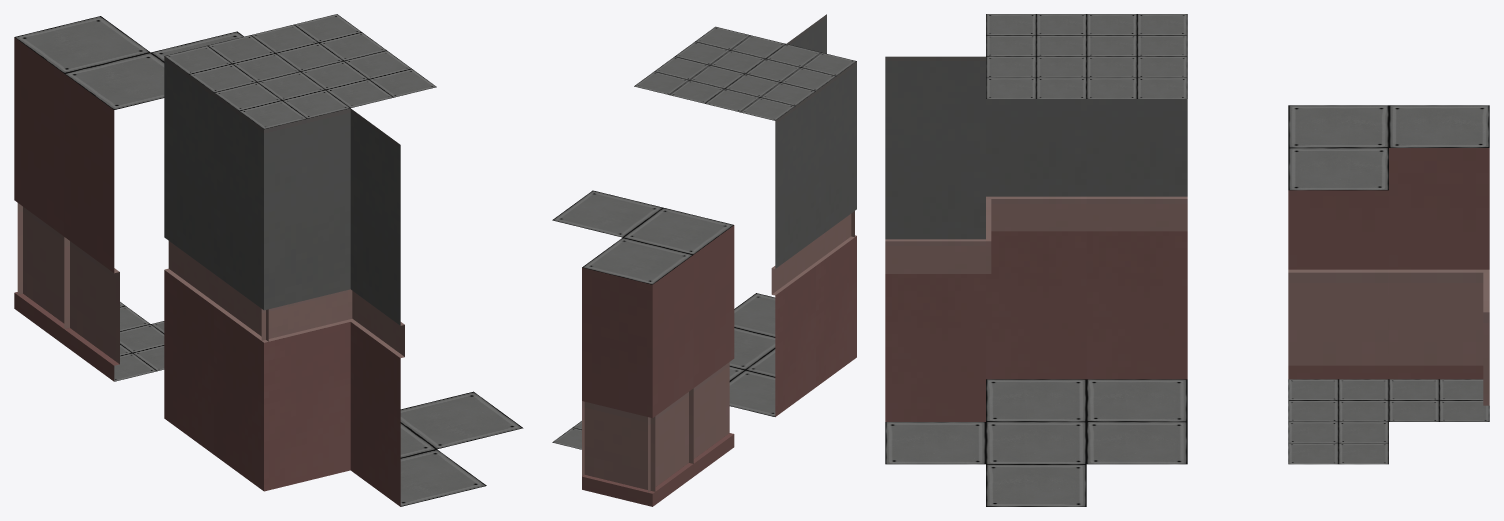
The model's file is cryolab.glb.
The picture shows the model from 3 angles, left to right: view 1: azimuth 30°, elevation 25°; view 2: azimuth 150°, elevation 25°; view 3: azimuth 270°, elevation 25°; orthographic projection. The views are drawn at different scales.
Parts seen in each view (by area): view 1: scale2.001-col, scale2-col-col, scale2.004-col, scale23-col, scale23.001-col, scale2.005-col, scale2.002-col, scale2.003-col, scale23.002-col; view 2: scale23.001-col, scale2-col-col, scale2.001-col, scale23-col, scale2.005-col, scale23.002-col, scale2.002-col, scale2.004-col; view 3: scale2.004-col, scale2-col-col, scale2.001-col, scale23.001-col, scale23-col, scale2.005-col, scale2.002-col, scale23.002-col, scale2.003-col.
Boxes of the visible parts, bbox=[...] form: scale2.001-col: bbox=[214, 71, 350, 491]; scale2-col-col: bbox=[164, 35, 299, 454]; scale2.004-col: bbox=[350, 108, 486, 506]; scale23-col: bbox=[64, 52, 164, 381]; scale23.001-col: bbox=[14, 16, 150, 344]; scale2.005-col: bbox=[301, 50, 436, 457]; scale2.002-col: bbox=[251, 14, 386, 71]; scale2.003-col: bbox=[400, 391, 523, 449]; scale23.002-col: bbox=[151, 31, 243, 333]; scale23.001-col: bbox=[582, 237, 693, 506]; scale2-col-col: bbox=[705, 74, 815, 416]; scale2.001-col: bbox=[745, 44, 856, 386]; scale23-col: bbox=[623, 207, 734, 476]; scale2.005-col: bbox=[675, 26, 785, 369]; scale23.002-col: bbox=[552, 190, 662, 449]; scale2.002-col: bbox=[634, 56, 744, 380]; scale2.004-col: bbox=[734, 14, 826, 337]; scale2.004-col: bbox=[885, 56, 985, 464]; scale2-col-col: bbox=[1086, 14, 1187, 421]; scale2.001-col: bbox=[986, 14, 1086, 421]; scale23.001-col: bbox=[1389, 105, 1489, 421]; scale23-col: bbox=[1288, 105, 1388, 421]; scale2.005-col: bbox=[986, 56, 1086, 464]; scale2.002-col: bbox=[1086, 56, 1187, 464]; scale23.002-col: bbox=[1288, 148, 1388, 464]; scale2.003-col: bbox=[986, 464, 1086, 506].
Size of the model in its own units: 3 by 4 by 6.
2 materials, 2 textured.
